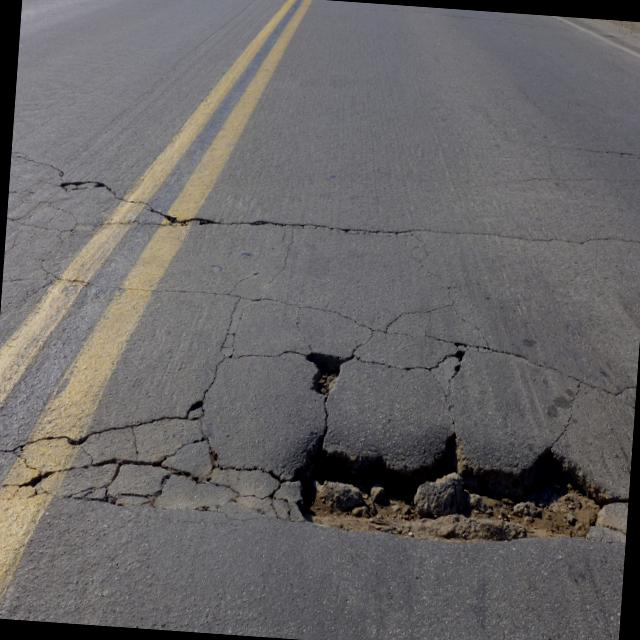bad-road: (284, 419, 632, 556), (0, 382, 291, 526), (304, 348, 346, 398), (448, 338, 476, 382)
